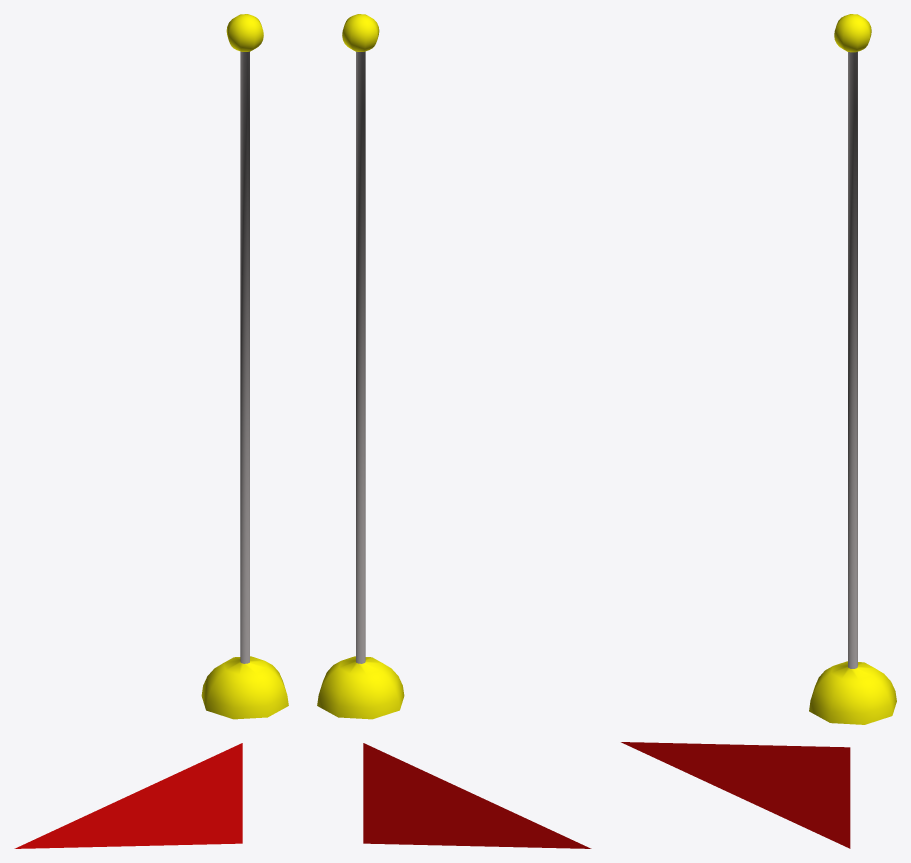
The model's file is CheckPoint.fbx.
3 views of the same model, side by side, from view 1: azimuth 30°, elevation 25°; view 2: azimuth 150°, elevation 25°; view 3: azimuth 330°, elevation 25° (orthographic).
Visible parts, largest first — view 1: bandeira, mastro; view 2: bandeira, mastro; view 3: bandeira, mastro.
Boxes of the visible parts, box(x1,y1,x2,y2) form: bandeira: box(14, 743, 242, 848); mastro: box(201, 14, 288, 719); bandeira: box(363, 743, 591, 848); mastro: box(317, 14, 404, 719); bandeira: box(621, 742, 850, 848); mastro: box(809, 14, 896, 724).
Bounding box in the file's own units: 777 × 2273 × 225.
